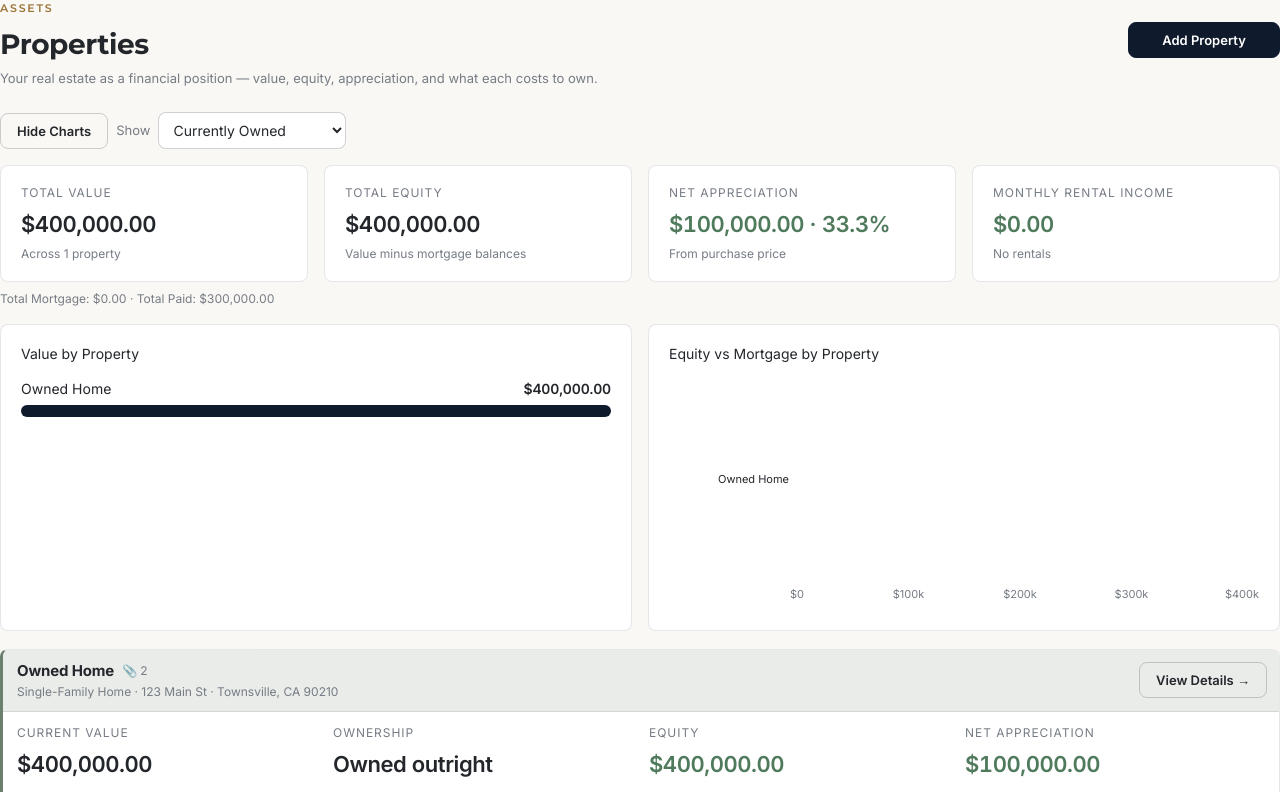
Test: Properties page › shows a no-match empty state for a filter
Check: the text "Owned Home" is shown, box [17,661,114,680]
Select "Rental Properties" in the dropdown: [252, 130] box [158,112,346,149]
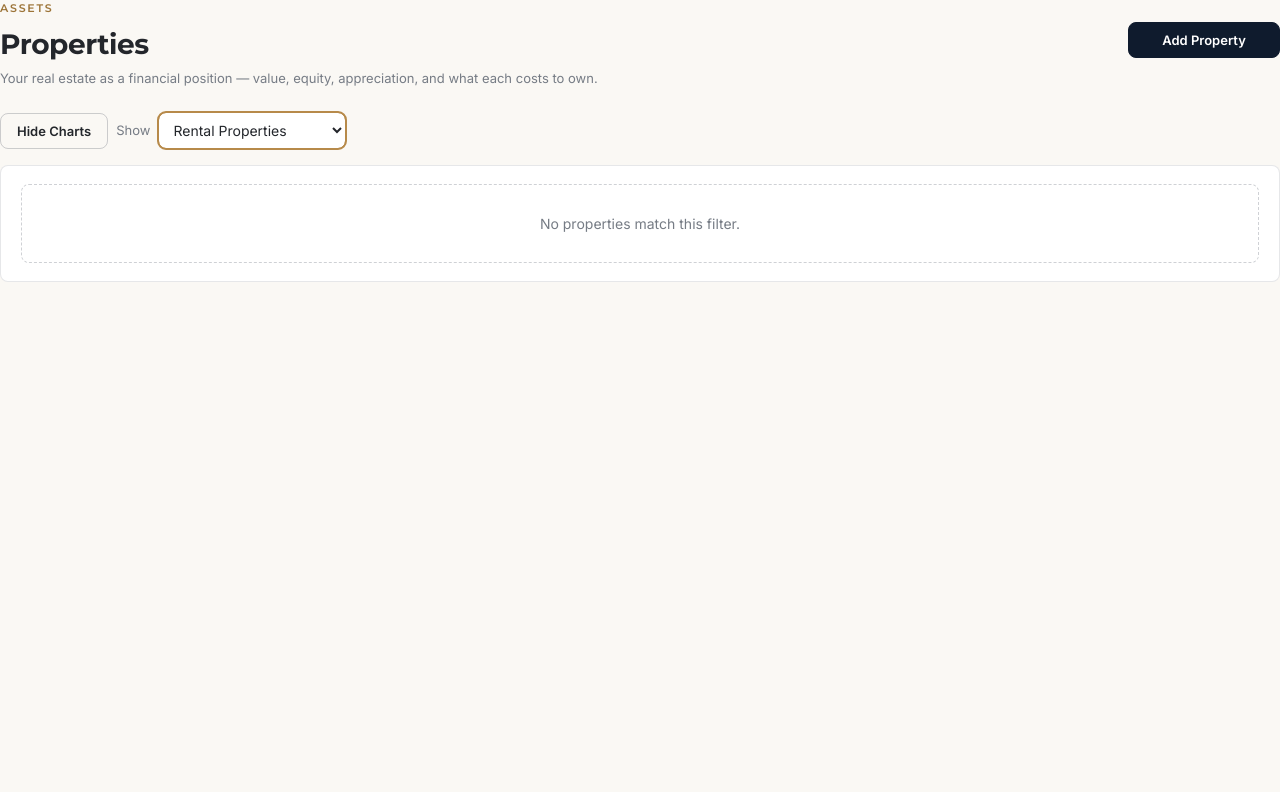
Check: the text "No properties match this filter." is shown, box [21,184,1259,263]
